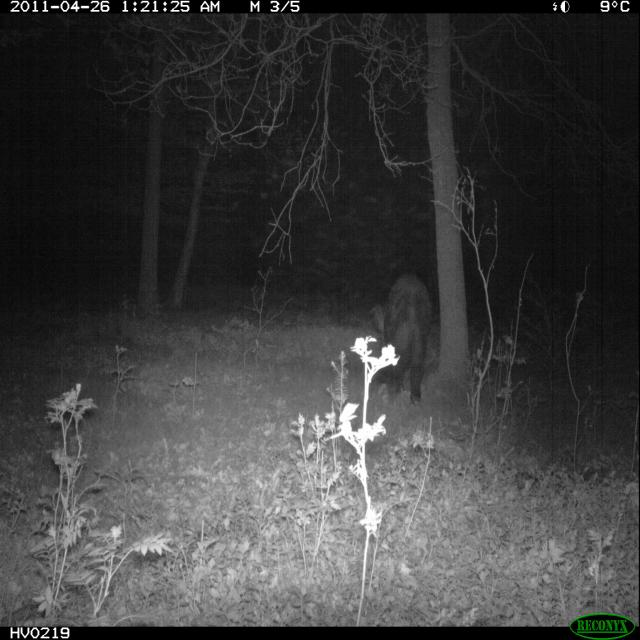boar: (357, 262, 446, 406)
